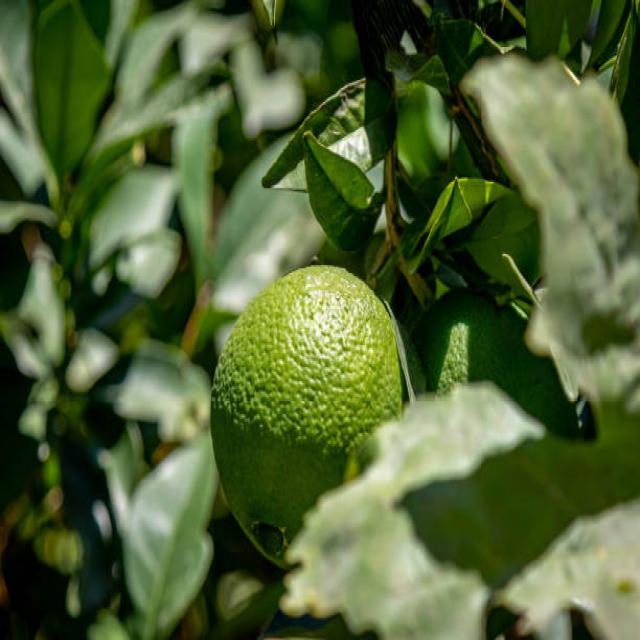Unripe: (211, 267, 401, 571)
